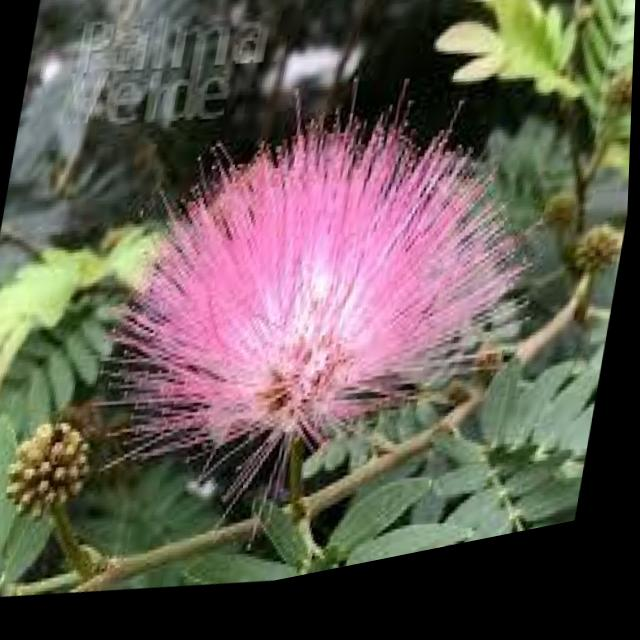Flower: (59, 47, 573, 554)
